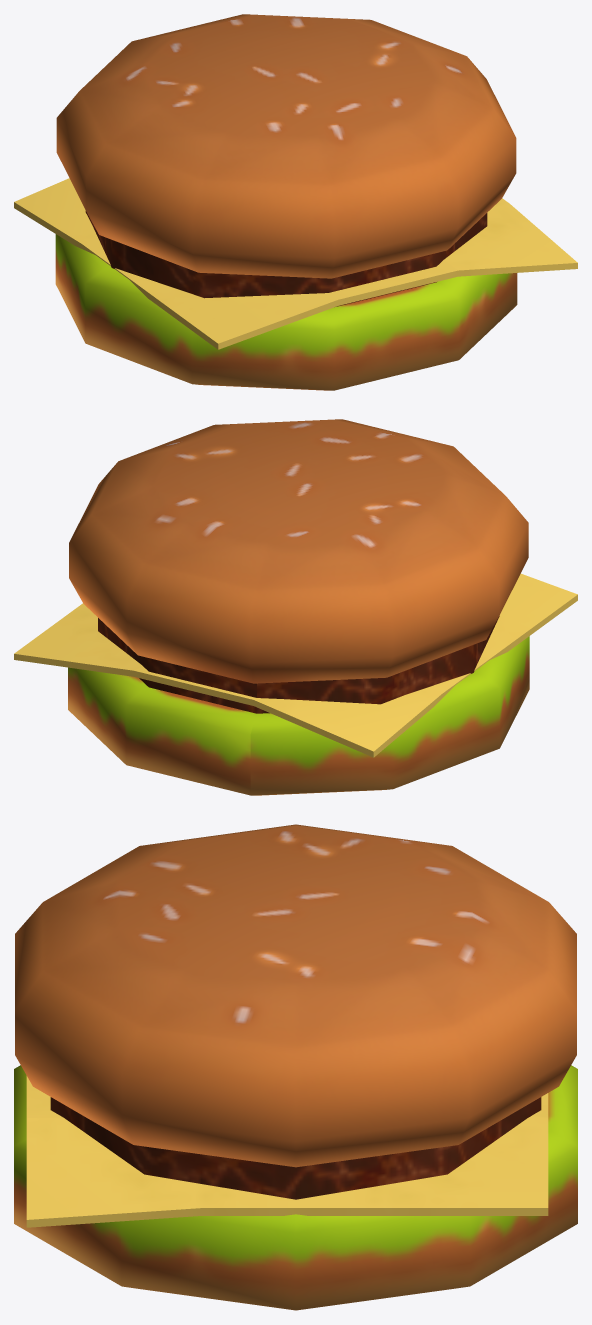
The model's file is CafeFood01_1.FBX.
The picture shows the model from 3 angles, top to bottom: view 1: azimuth 30°, elevation 25°; view 2: azimuth 150°, elevation 25°; view 3: azimuth 270°, elevation 25°; orthographic projection. The views are drawn at different scales.
Visible parts, largest first — view 1: CafeFood01_1; view 2: CafeFood01_1; view 3: CafeFood01_1.
Part boxes in pixels (x1=…): CafeFood01_1: x1=14, y1=14, x2=577, y2=390; CafeFood01_1: x1=14, y1=419, x2=577, y2=795; CafeFood01_1: x1=14, y1=824, x2=577, y2=1310.
Size of what is drawn, in the model's own units: 0.1892 by 0.1027 by 0.1799.
